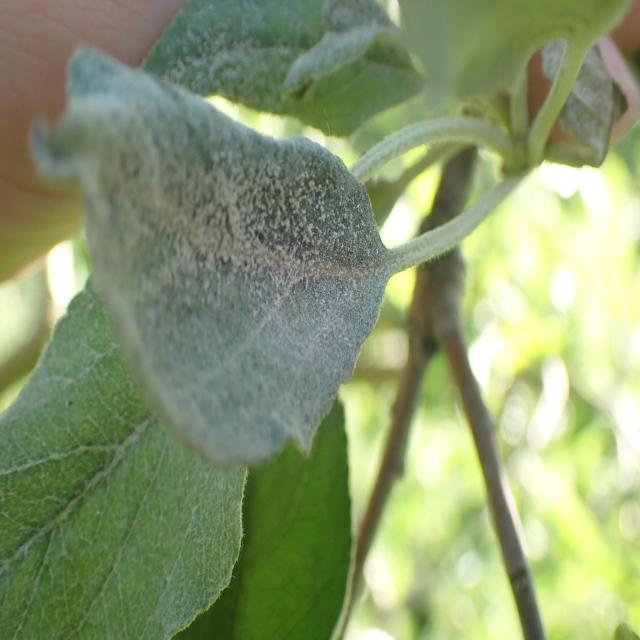Powdery_mildew: (50, 41, 392, 478), (0, 271, 311, 639), (116, 0, 430, 138), (535, 17, 613, 197)
